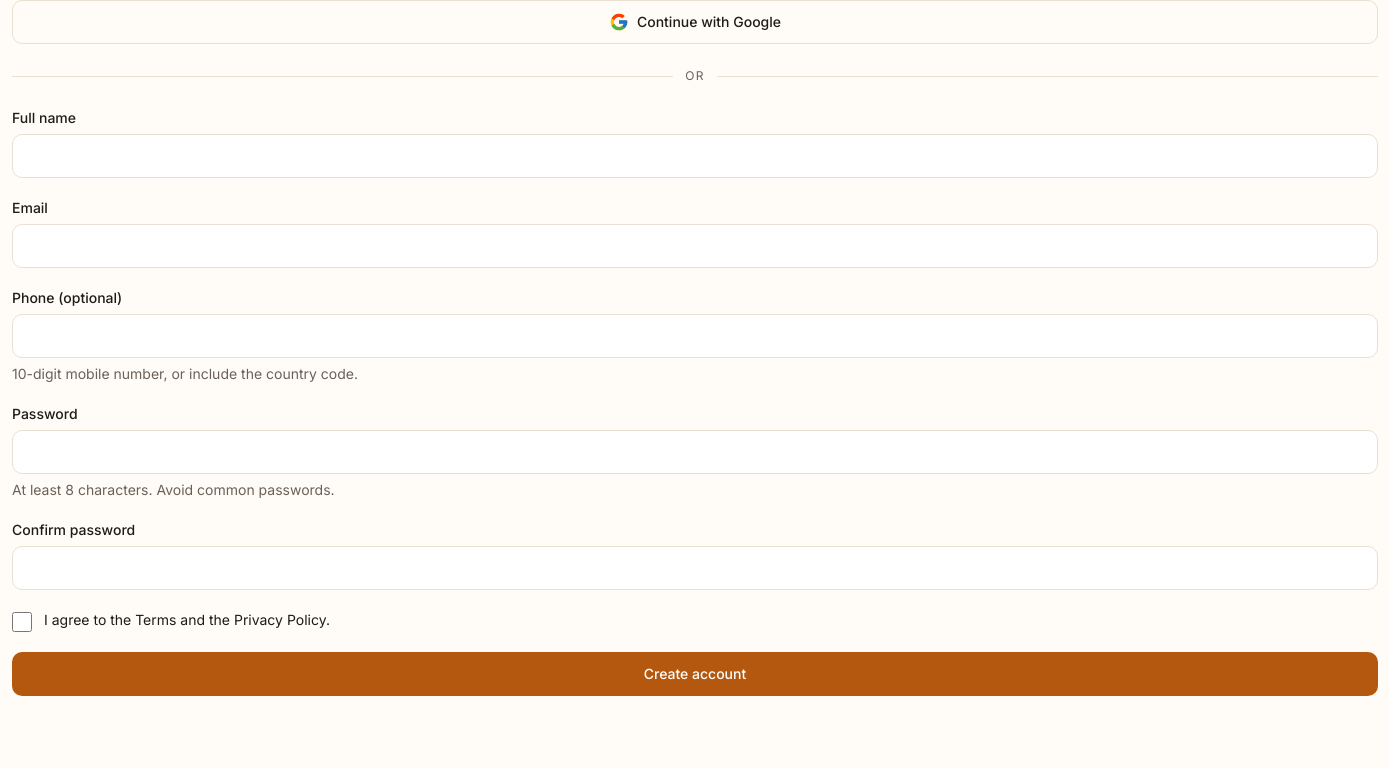
Test: RegisterForm › puts EMAIL_TAKEN on the email field with a log-in link
Type "Sunita Sharma" into the field labelled "Full name".
click(695, 156); type("Sunita Sharma")  # box [12,134,1378,178]
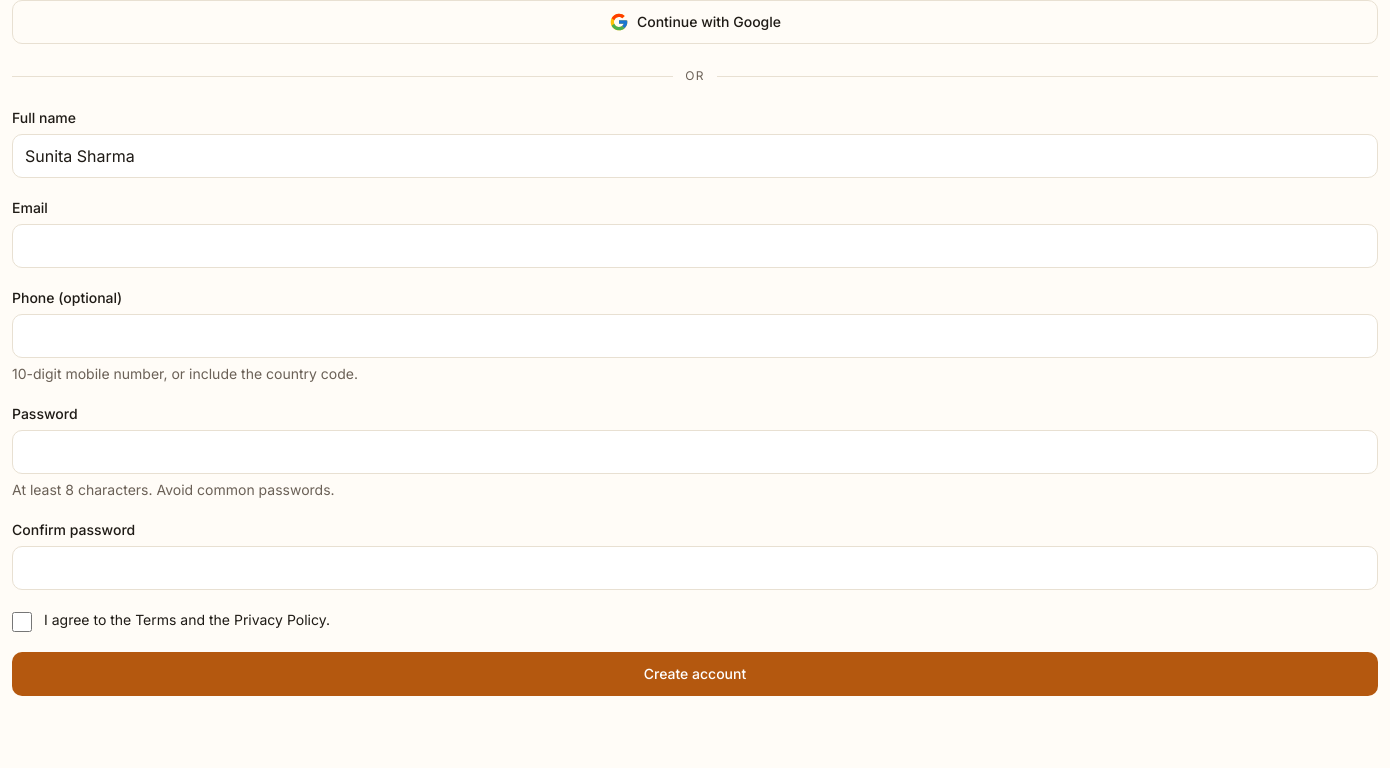
Type "sunita@example.com" into the field labelled "Email".
click(695, 246); type("sunita@example.com")  # box [12,224,1378,268]
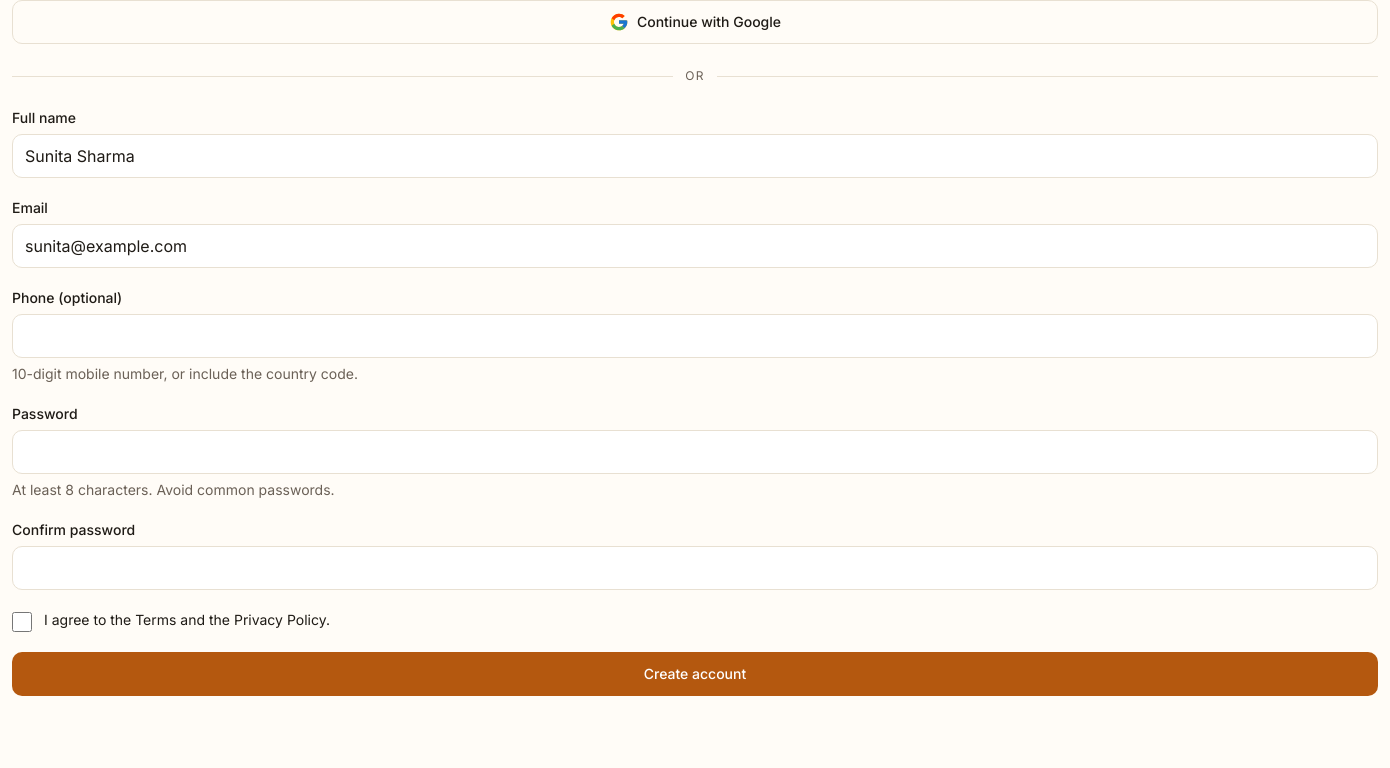
Type "Strong-Pass-1" into the password field labelled "Password".
click(695, 452); type("Strong-Pass-1")  # box [12,430,1378,474]
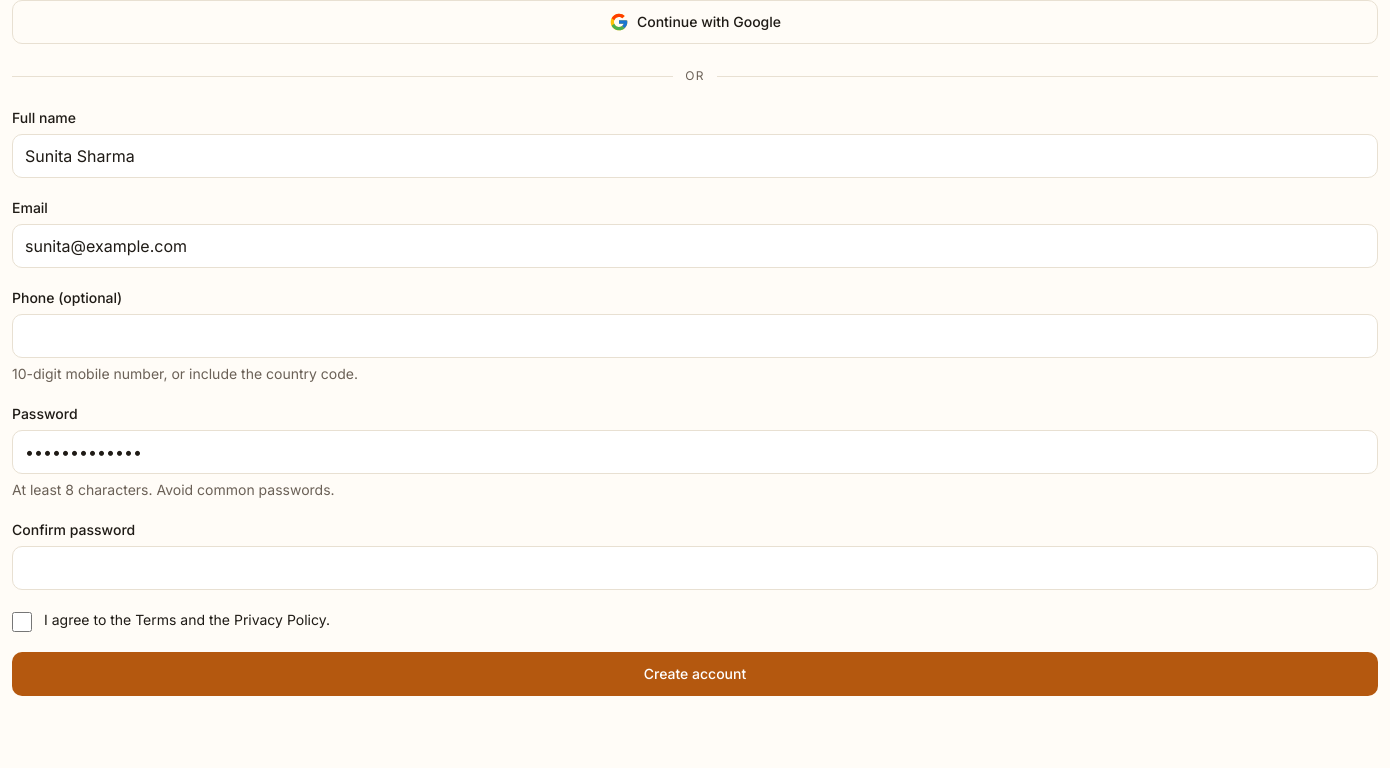
Type "Strong-Pass-1" into the password field labelled "Confirm password".
click(695, 568); type("Strong-Pass-1")  # box [12,546,1378,590]
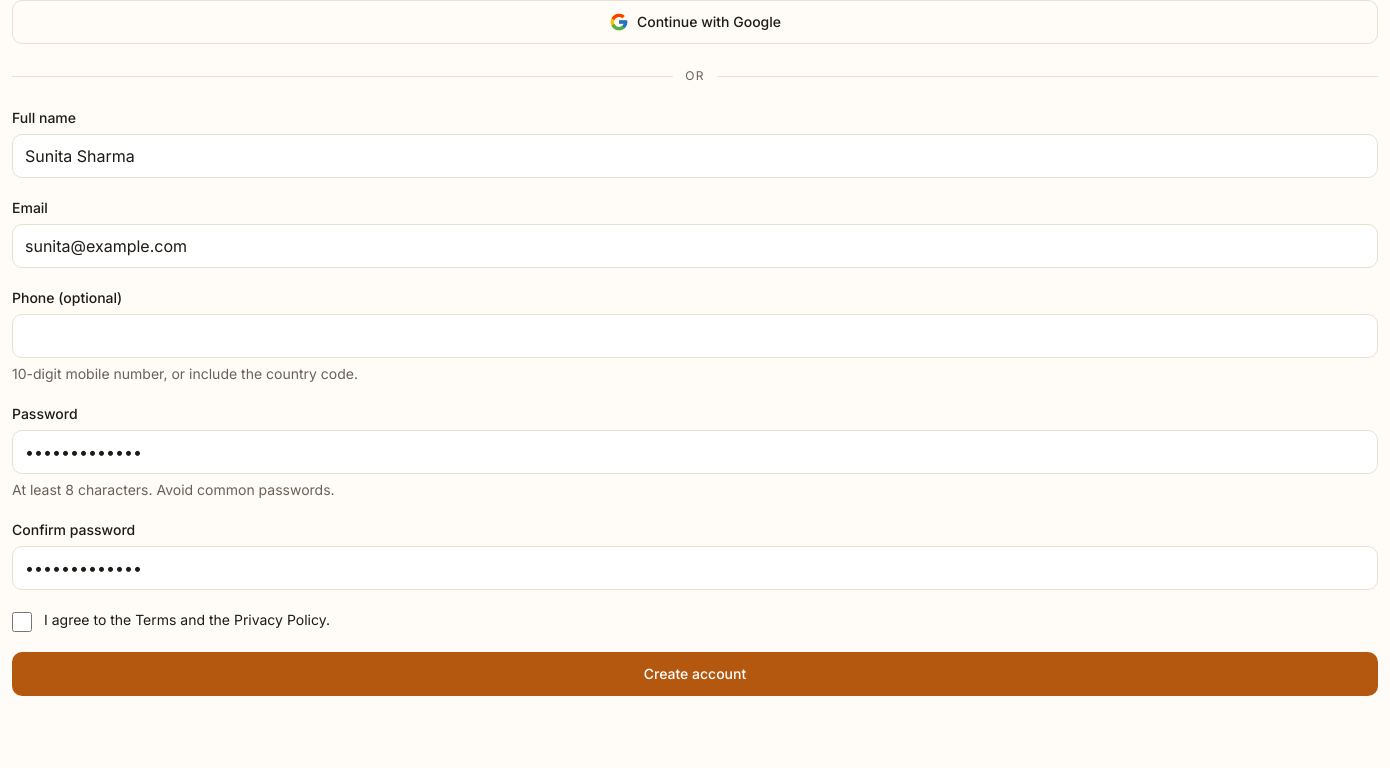
Click the checkbox.
click(22, 622)  # box [12,612,32,632]
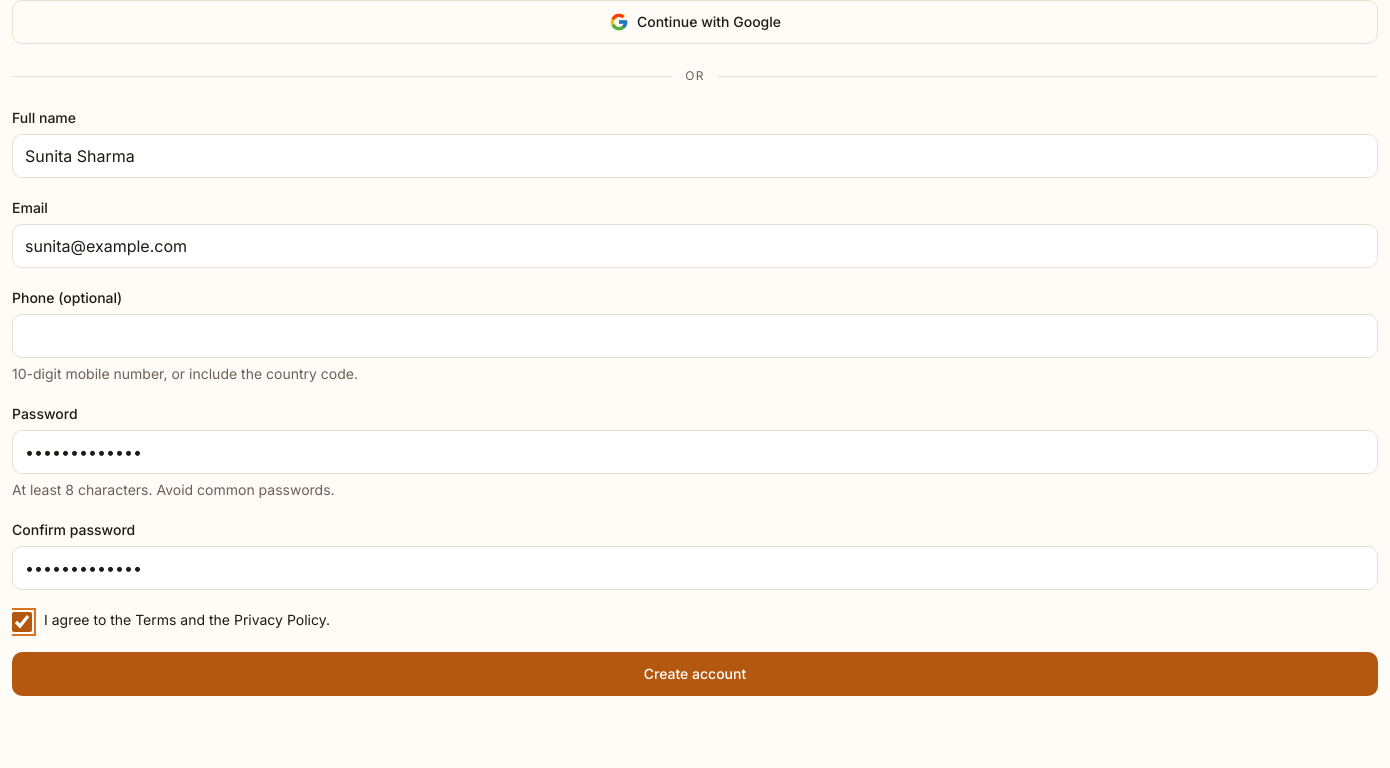
Click the button "Create account".
click(695, 674)  # box [12,652,1378,696]
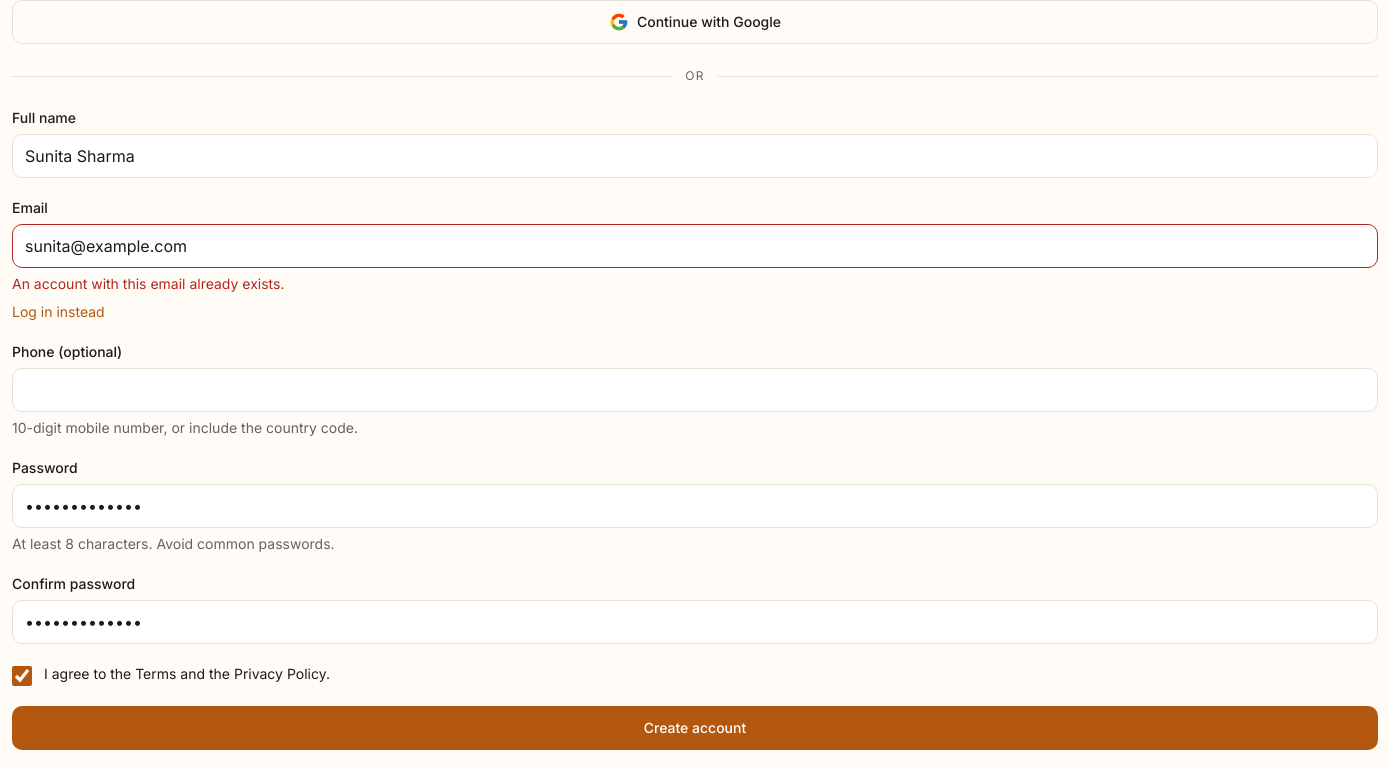
Check: the text "An account with this email already exists." is shown, box [12,275,284,292]
Check: the link "Log in instead" is shown, box [12,303,105,320]
